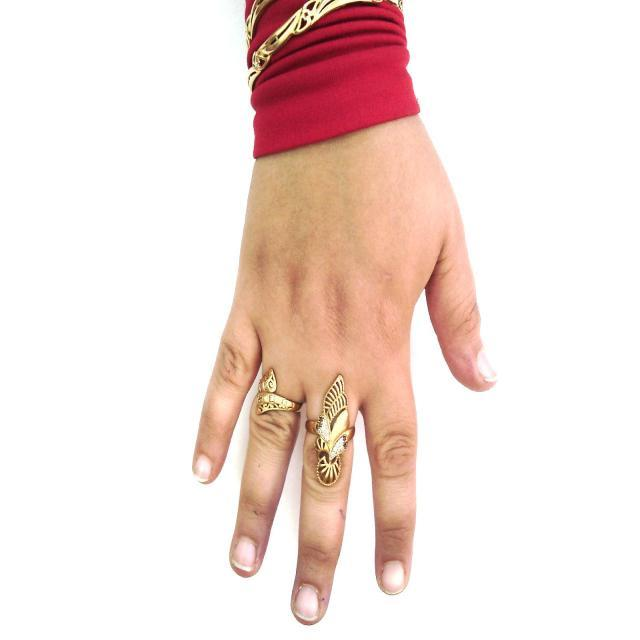Fingernail: (295, 585, 320, 620), (382, 560, 405, 594), (234, 538, 256, 569), (477, 350, 497, 380), (194, 457, 211, 480)
